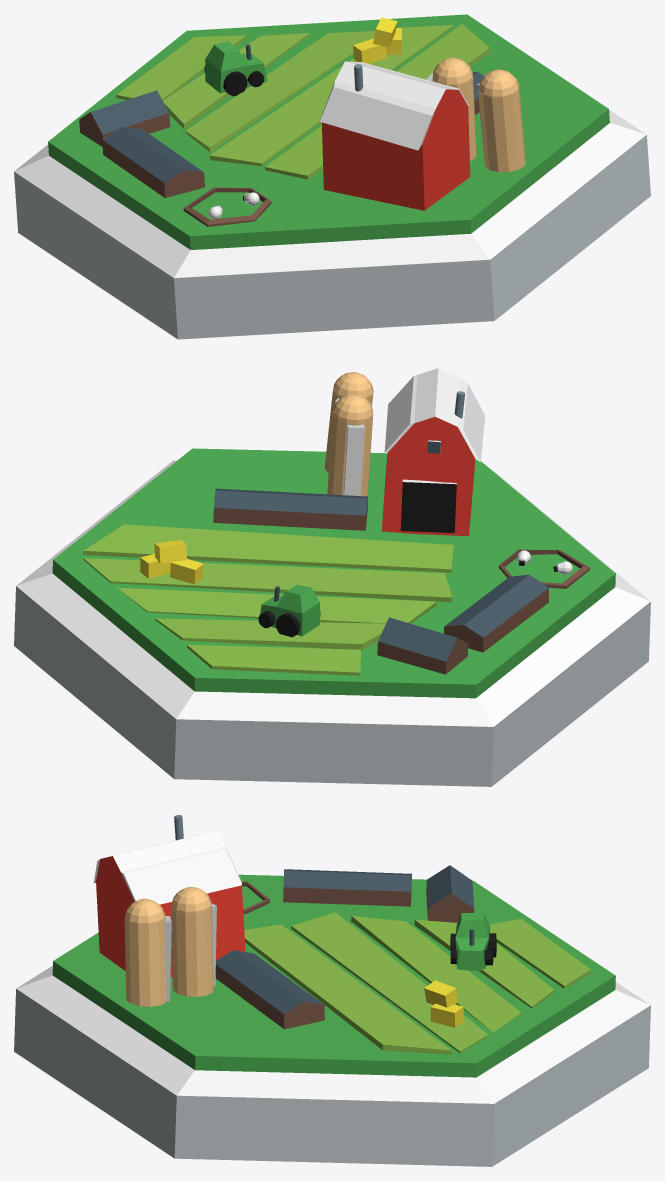
File: scene_GUpWpxGQZu.glb
The picture shows the model from 3 angles, top to bottom: view 1: azimuth 30°, elevation 25°; view 2: azimuth 150°, elevation 25°; view 3: azimuth 270°, elevation 25°; orthographic projection.
Visible parts, largest first — view 1: group31636515, group254207201, group374030016, group1861720690, group1751667855, group822424992, group755240362, group1655006885, group2095116619, group1575269656, group1229528895, group1374025953 (+7 smaller); view 2: group31636515, group254207201, group374030016, group755240362, group1751667855, group1861720690, group1005689348, group1575269656, group822424992, group2095116619, group1229528895, group494179576 (+8 smaller); view 3: group31636515, group254207201, group374030016, group755240362, group1751667855, group1861720690, group1005689348, group822424992, group1652006895, group1655006885, group2095116619, group1575269656 (+7 smaller).
Boxes of the visible parts, x1,y1,x2,y2 form: group31636515: (14,109,650,339); group254207201: (48,14,609,249); group374030016: (320,61,470,210); group1861720690: (185,31,375,152); group1751667855: (209,25,453,166); group822424992: (102,127,204,197); group755240362: (264,24,490,179); group1655006885: (478,85,525,172); group2095116619: (116,35,246,100); group1575269656: (163,33,310,129); group1229528895: (79,90,170,146); group1374025953: (205,41,267,93); group31636515: (14,460,650,786); group254207201: (52,448,615,698); group374030016: (381,368,485,536); group755240362: (83,524,454,572); group1751667855: (83,558,452,602); group1861720690: (117,587,436,623); group1005689348: (213,488,368,530); group1575269656: (155,618,385,650); group822424992: (444,574,548,652); group2095116619: (187,644,360,675); group1229528895: (377,617,468,674); group494179576: (400,479,456,533); group31636515: (14,965,650,1166); group254207201: (52,874,615,1077); group374030016: (94,830,245,977); group755240362: (244,924,451,1054); group1751667855: (291,912,488,1052); group1861720690: (351,916,521,1032); group1005689348: (215,950,324,1029); group822424992: (283,869,411,906); group1652006895: (171,904,213,996); group1655006885: (124,915,166,1006); group2095116619: (489,919,590,988); group1575269656: (414,919,554,1008).
Bounding box in the file's own units: 1.33 × 0.6244 × 1.53.
